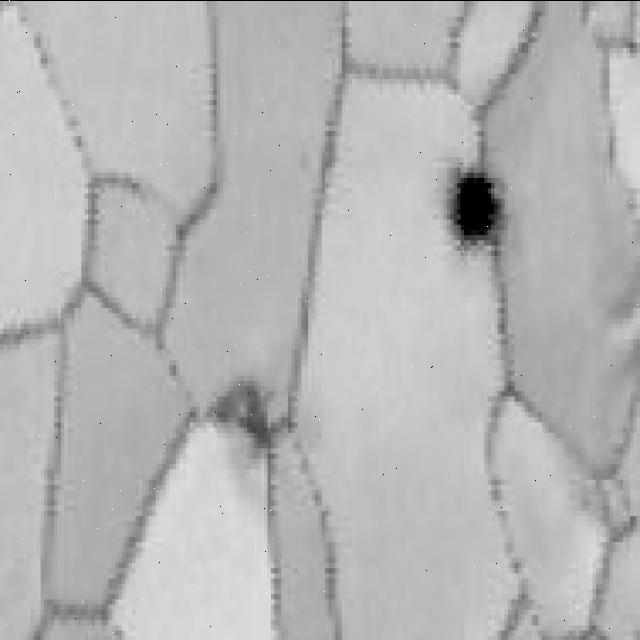good_void: (438, 164, 509, 249), (207, 382, 280, 463)
